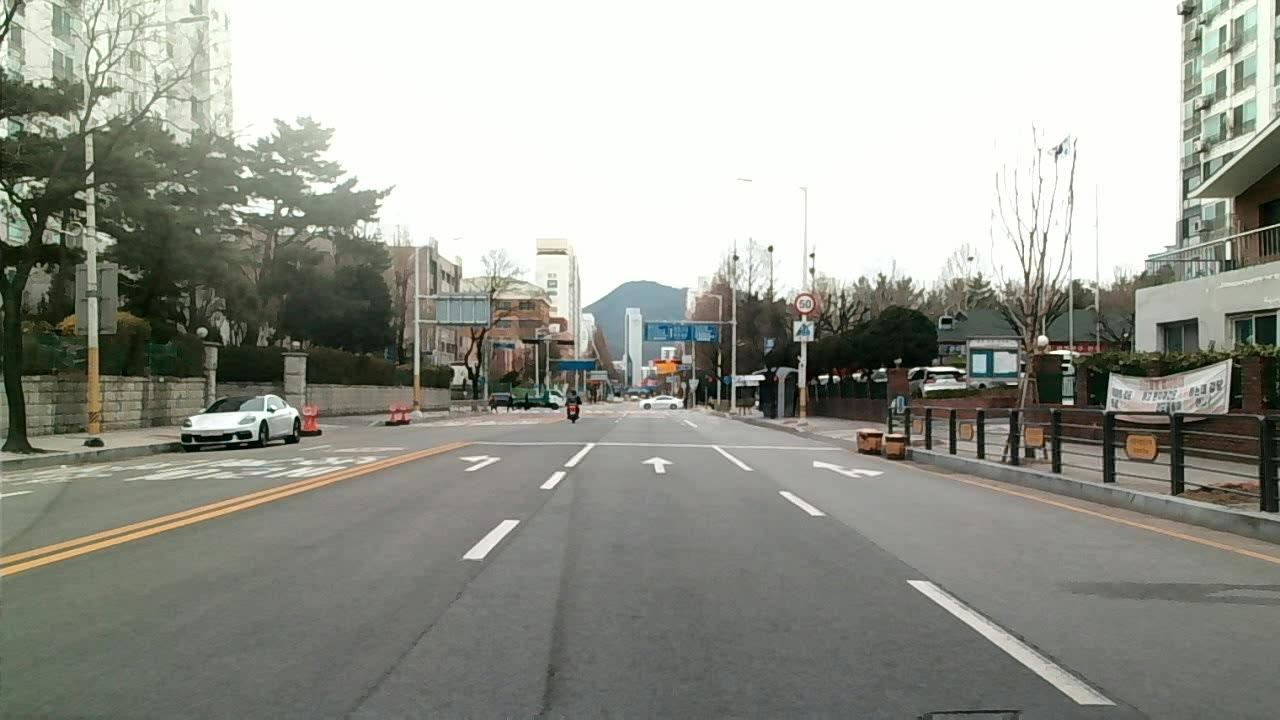banner: (1101, 363, 1236, 423)
vcrack: (345, 566, 485, 720), (928, 578, 1066, 672), (1069, 668, 1151, 720)
